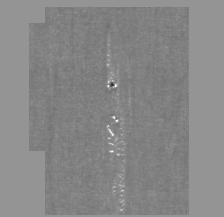oxl: (35, 10, 189, 207)
